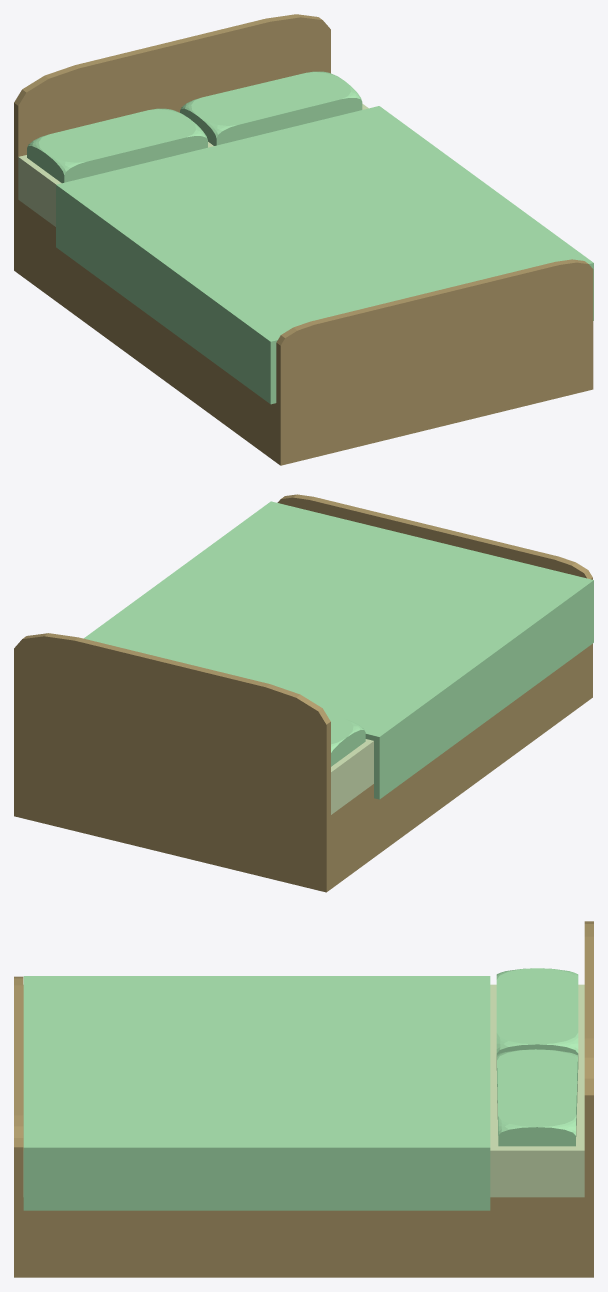
Rendered from bed.fbx.
The picture shows the model from 3 angles, top to bottom: view 1: azimuth 30°, elevation 25°; view 2: azimuth 150°, elevation 25°; view 3: azimuth 270°, elevation 25°; orthographic projection. The views are drawn at different scales.
Parts seen in each view (by area): view 1: Cube.001; view 2: Cube.001; view 3: Cube.001.
Boxes of the visible parts, box(x1,y1,x2,y2) form: Cube.001: box(14, 14, 593, 465); Cube.001: box(14, 494, 593, 892); Cube.001: box(14, 921, 593, 1277).
Size of the model in its own units: 145 by 81.52 by 207.
